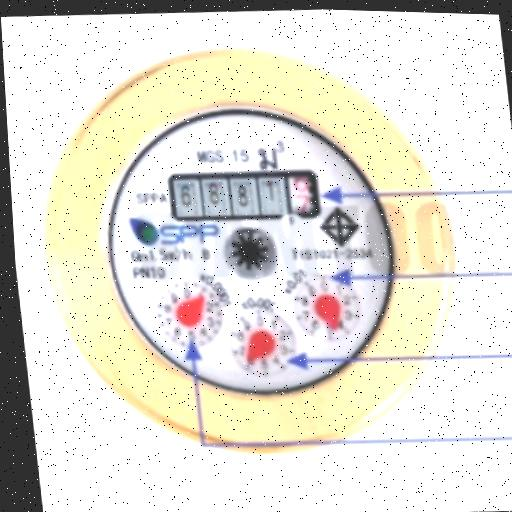1: (261, 180, 282, 214)
6: (290, 175, 313, 214), (175, 182, 197, 216)
8: (204, 182, 225, 215), (234, 180, 253, 214)
border_water_meter_number: (166, 165, 323, 227)
